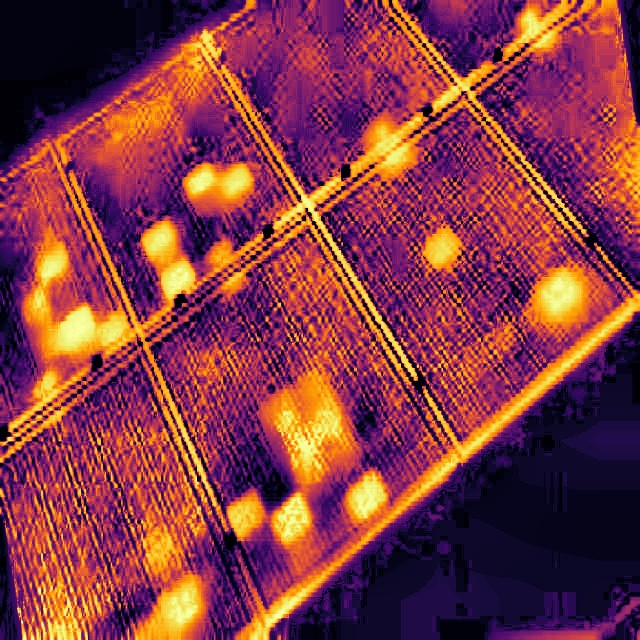Hotspot: (228, 380, 349, 558), (142, 215, 237, 302), (183, 162, 252, 211), (162, 577, 206, 631), (343, 471, 388, 523), (535, 268, 580, 318)
Moderate-High: (162, 575, 205, 632), (271, 492, 311, 548), (538, 269, 580, 318), (62, 305, 94, 348), (185, 163, 217, 198)
